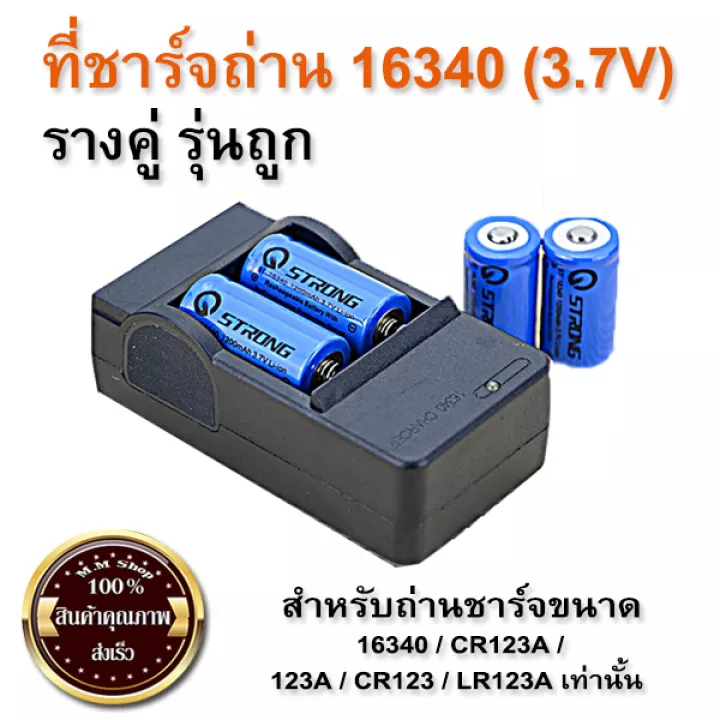Battery: (238, 229, 415, 355), (173, 269, 355, 390), (541, 210, 621, 371), (459, 213, 540, 349)
